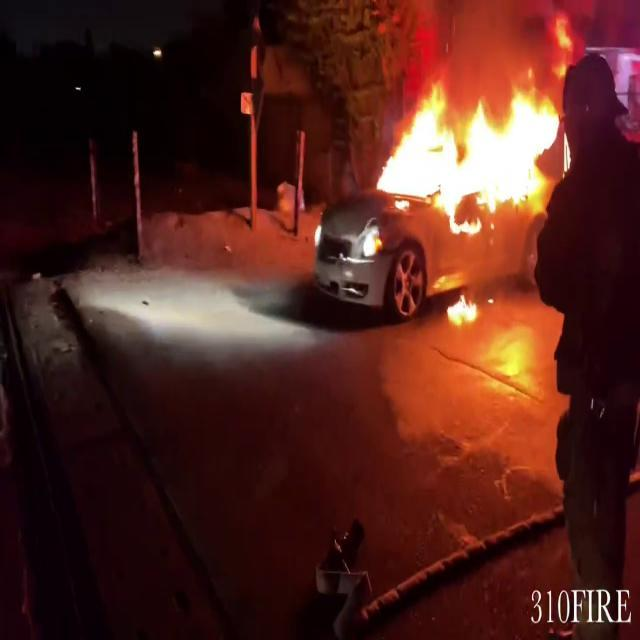Fire: (368, 70, 564, 224), (444, 286, 482, 331)
